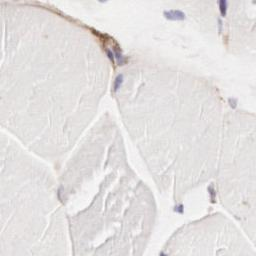nucleus: (162, 9, 187, 21), (114, 74, 123, 94), (208, 183, 217, 202), (217, 1, 228, 16), (228, 97, 238, 109), (106, 49, 114, 62), (175, 204, 184, 213), (115, 52, 121, 61), (158, 251, 167, 256)
positive_cell: (85, 25, 115, 72), (113, 40, 129, 63), (114, 57, 130, 65)
